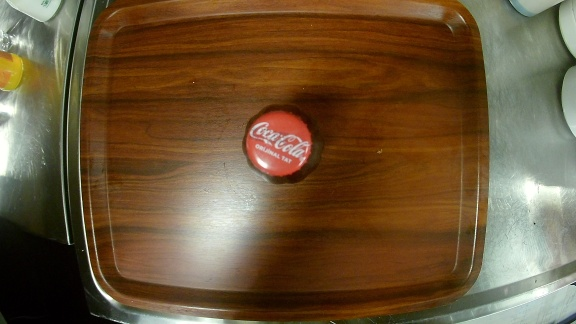camkola: (232, 102, 326, 190)
